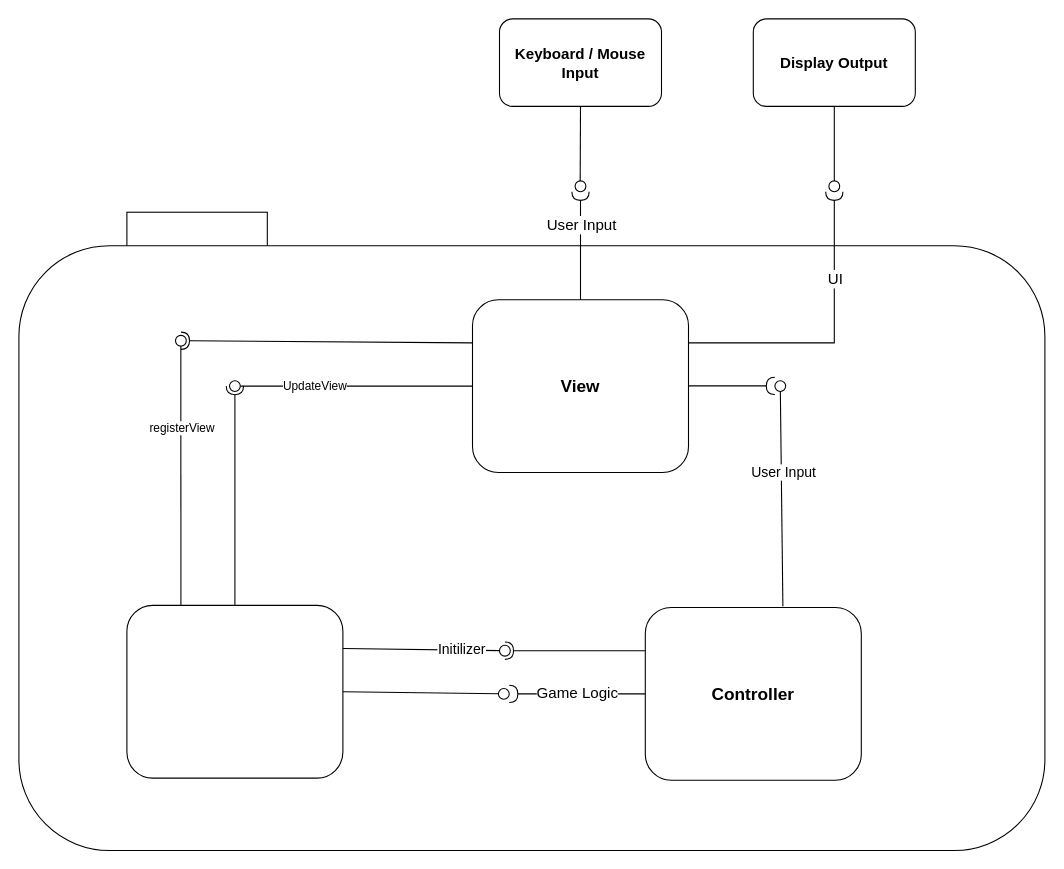
Image size: 1064x869. Some labels were removed from this diagram. Here are the shapes that lost their labels. From the top down, the centre of each, then its label:
the point at 196,233: Tron Application
the point at 234,691: Model
